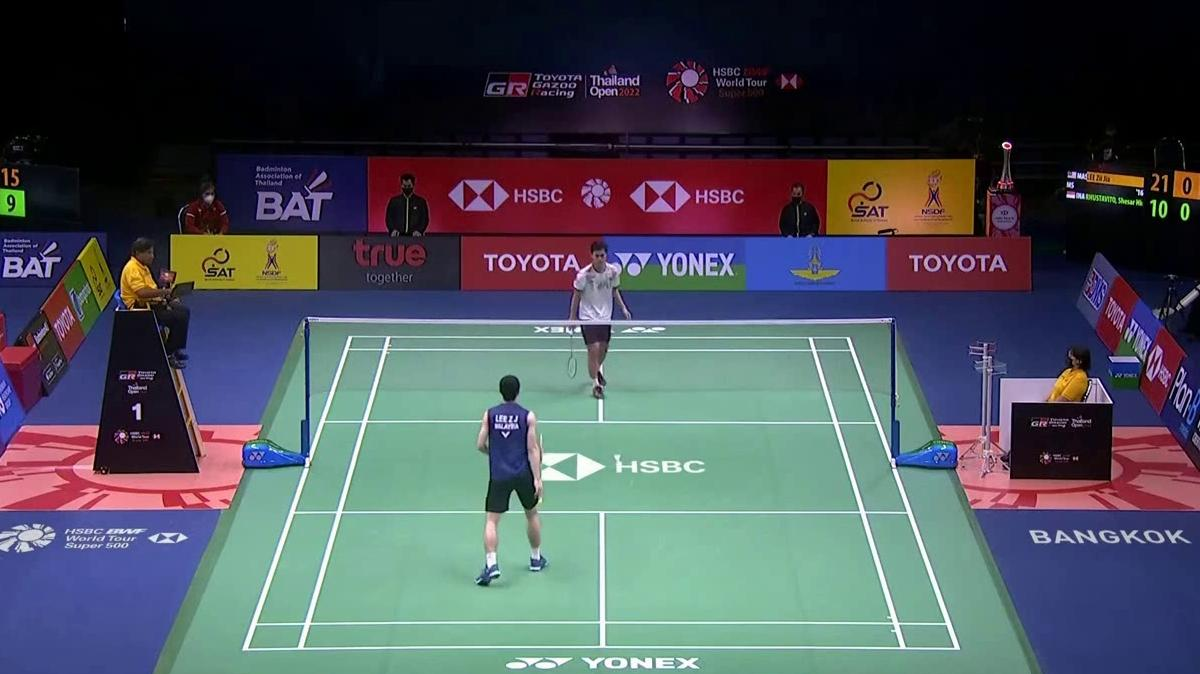racket: (567, 318, 578, 378), (537, 432, 543, 504)
shuttle: (613, 453, 622, 462)
